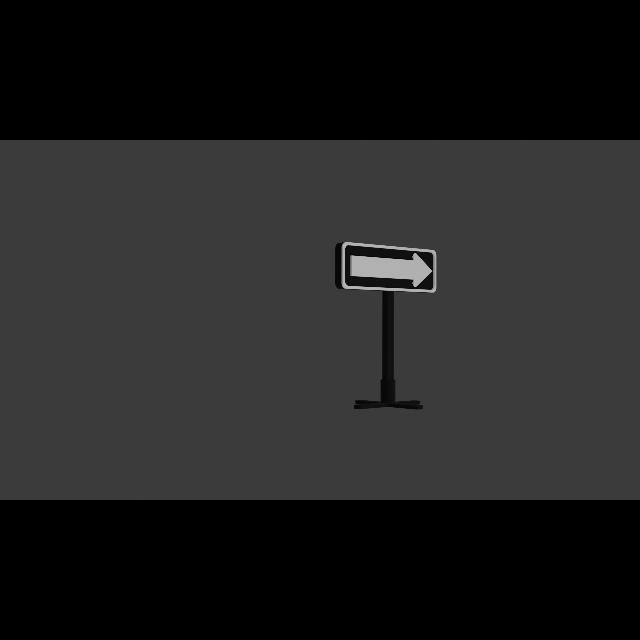sign_oneway_right: (338, 242, 438, 294)
